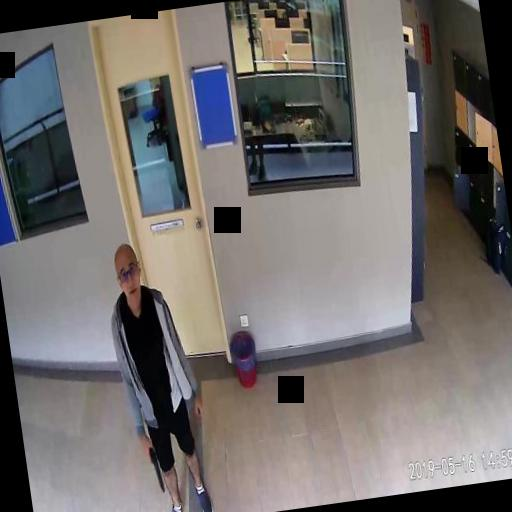Handgun: (144, 442, 164, 491)
